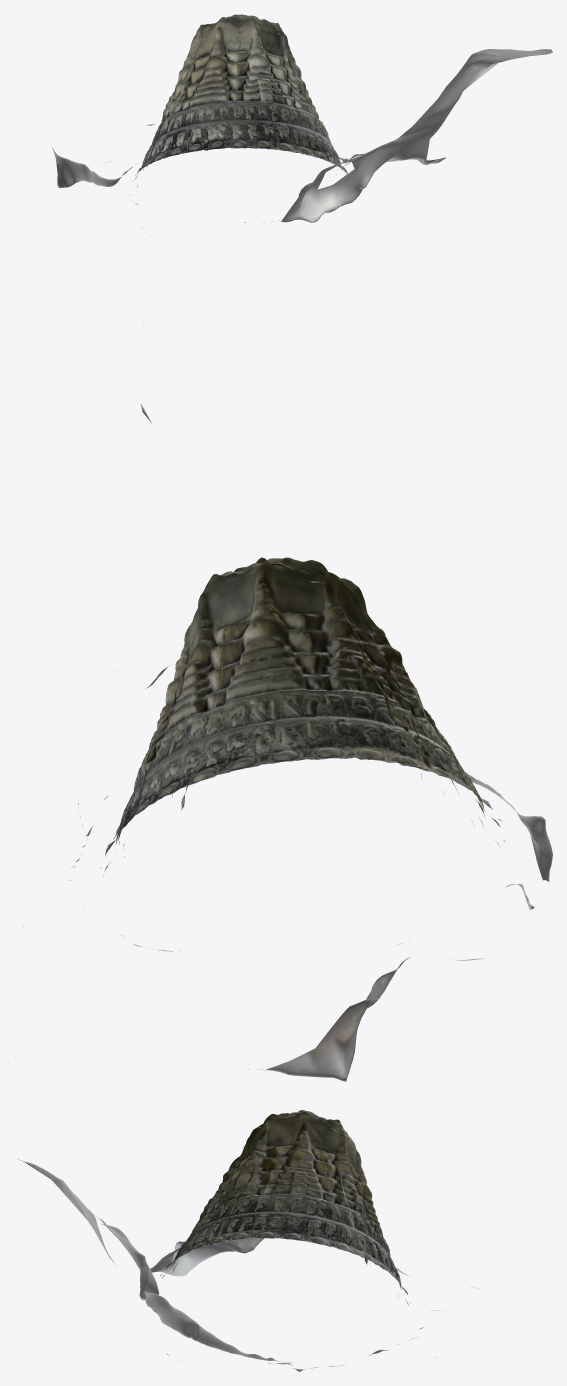
3 views of the same model, one above another, from view 1: azimuth 30°, elevation 25°; view 2: azimuth 150°, elevation 25°; view 3: azimuth 270°, elevation 25° (orthographic). The views are drawn at different scales.
Size of the model in its own units: 1.79 by 1.06 by 2.02.
1 material, 1 textured.
